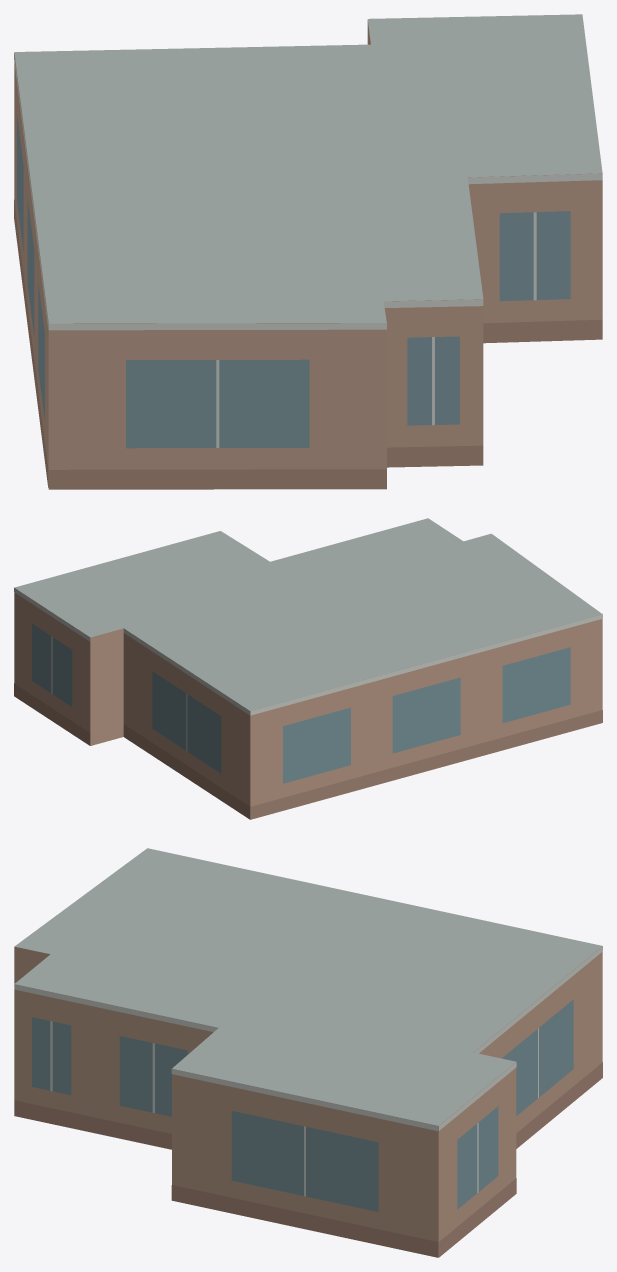
The model's file is survey-upis-33014868.glb.
3 views of the same model, one above another, from view 1: azimuth 30°, elevation 25°; view 2: azimuth 150°, elevation 25°; view 3: azimuth 270°, elevation 25° (orthographic). The views are drawn at different scales.
Parts seen in each view (by area): view 1: survey-upis-33014868.tmp; view 2: survey-upis-33014868.tmp; view 3: survey-upis-33014868.tmp.
Part boxes in pixels (left/top/right/bottom): survey-upis-33014868.tmp: left=14, top=14, right=602, bottom=489; survey-upis-33014868.tmp: left=14, top=518, right=602, bottom=819; survey-upis-33014868.tmp: left=14, top=848, right=602, bottom=1257.
Bounding box in the file's own units: 13.79 × 3.05 × 12.35.
